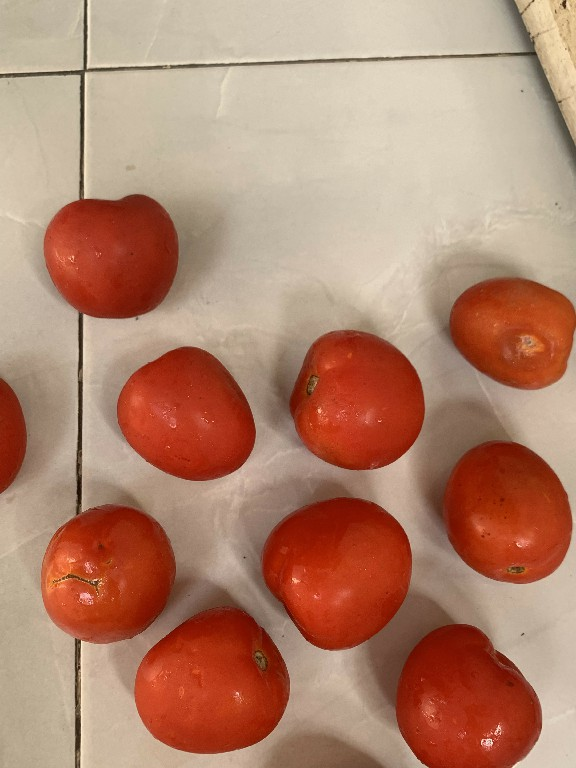NG: (29, 499, 181, 646), (438, 255, 573, 398)
OK: (129, 601, 307, 753), (266, 488, 422, 658), (278, 321, 426, 478), (389, 615, 540, 767), (104, 339, 262, 483), (436, 430, 575, 591), (38, 181, 188, 328)
